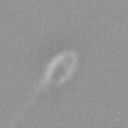normal: (6, 84, 51, 128)
